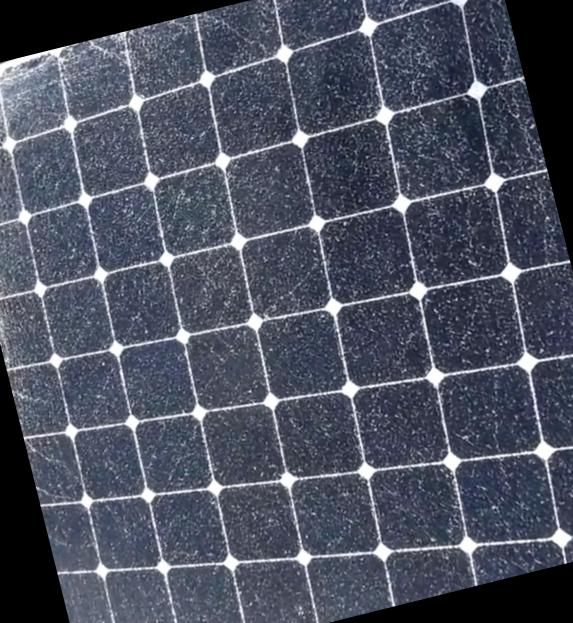Crack: (0, 72, 27, 200)
